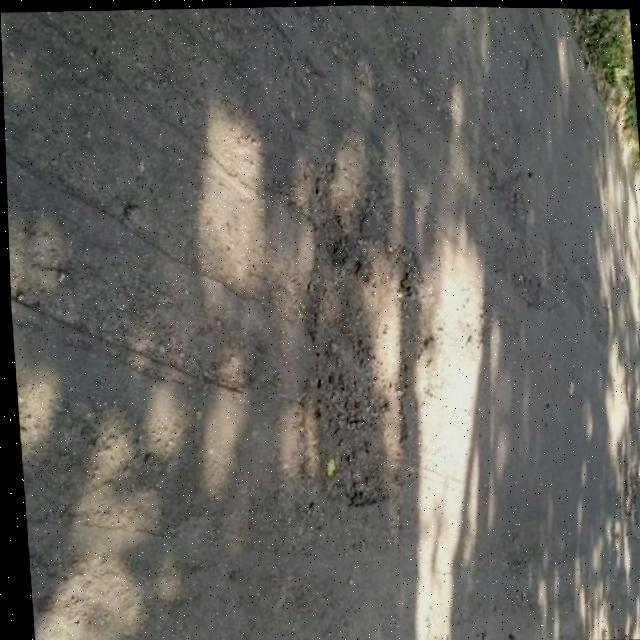Pothole: (289, 216, 454, 520)
